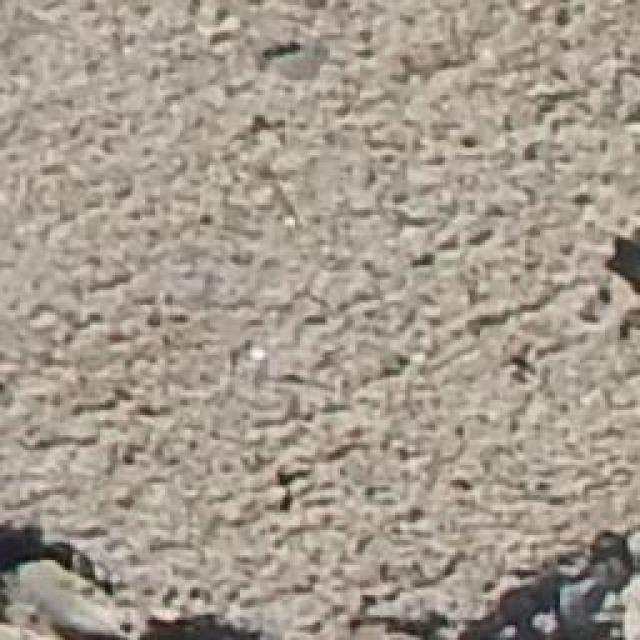concrete-crack: (0, 511, 640, 640), (606, 225, 640, 315)
